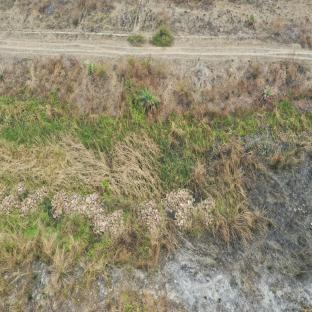rock_toe: (3, 180, 230, 244)
vegetation: (1, 91, 244, 202)
